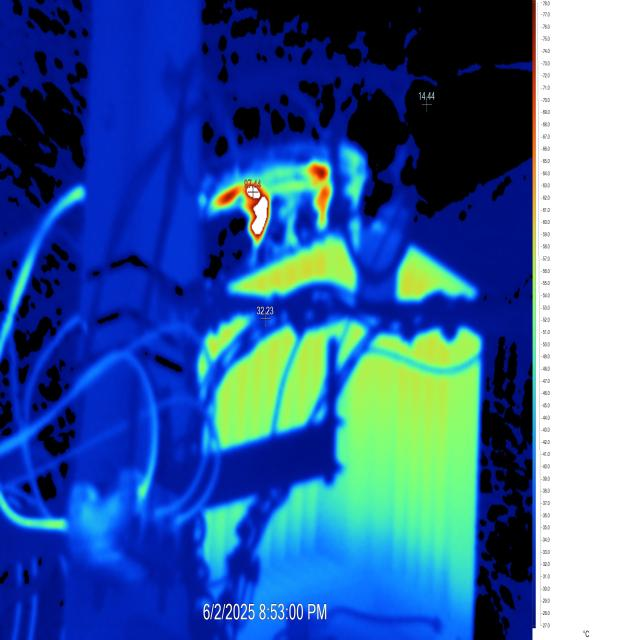Transformer: (0, 151, 484, 640)
